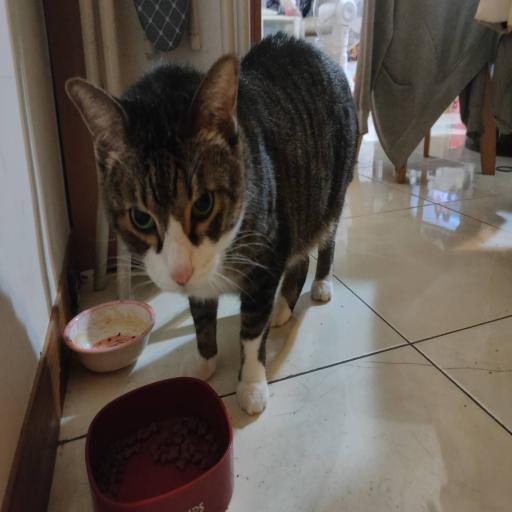cat: (109, 38, 348, 364)
